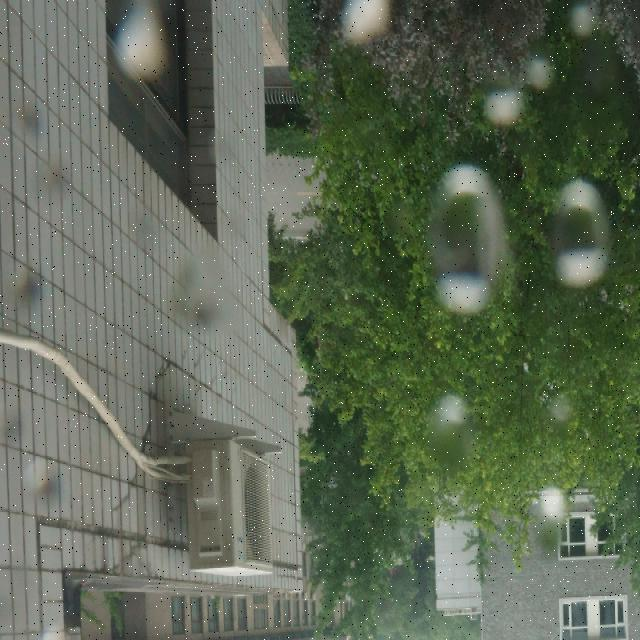raindrop: (424, 154, 508, 320), (546, 182, 626, 286), (176, 230, 238, 338), (420, 387, 474, 484), (572, 34, 620, 141), (526, 478, 572, 570), (118, 0, 168, 80), (0, 254, 52, 327), (28, 137, 74, 209), (12, 442, 63, 502), (478, 87, 539, 125), (337, 0, 394, 40), (208, 112, 252, 160), (122, 210, 156, 262), (6, 88, 44, 134), (546, 384, 576, 438), (226, 181, 260, 228), (526, 53, 564, 91), (2, 404, 34, 445), (568, 5, 594, 37)
